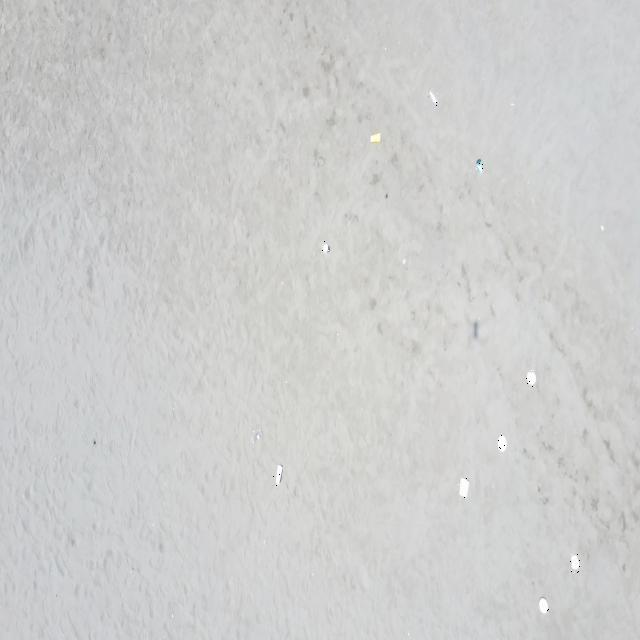take-away-containers: (458, 476, 470, 498), (536, 597, 548, 615), (570, 553, 580, 573), (498, 434, 508, 453), (526, 370, 537, 387)
takeaway-cup: (272, 463, 282, 487), (251, 430, 263, 446), (370, 131, 382, 144), (429, 89, 438, 106), (476, 158, 484, 175), (322, 241, 330, 256)
